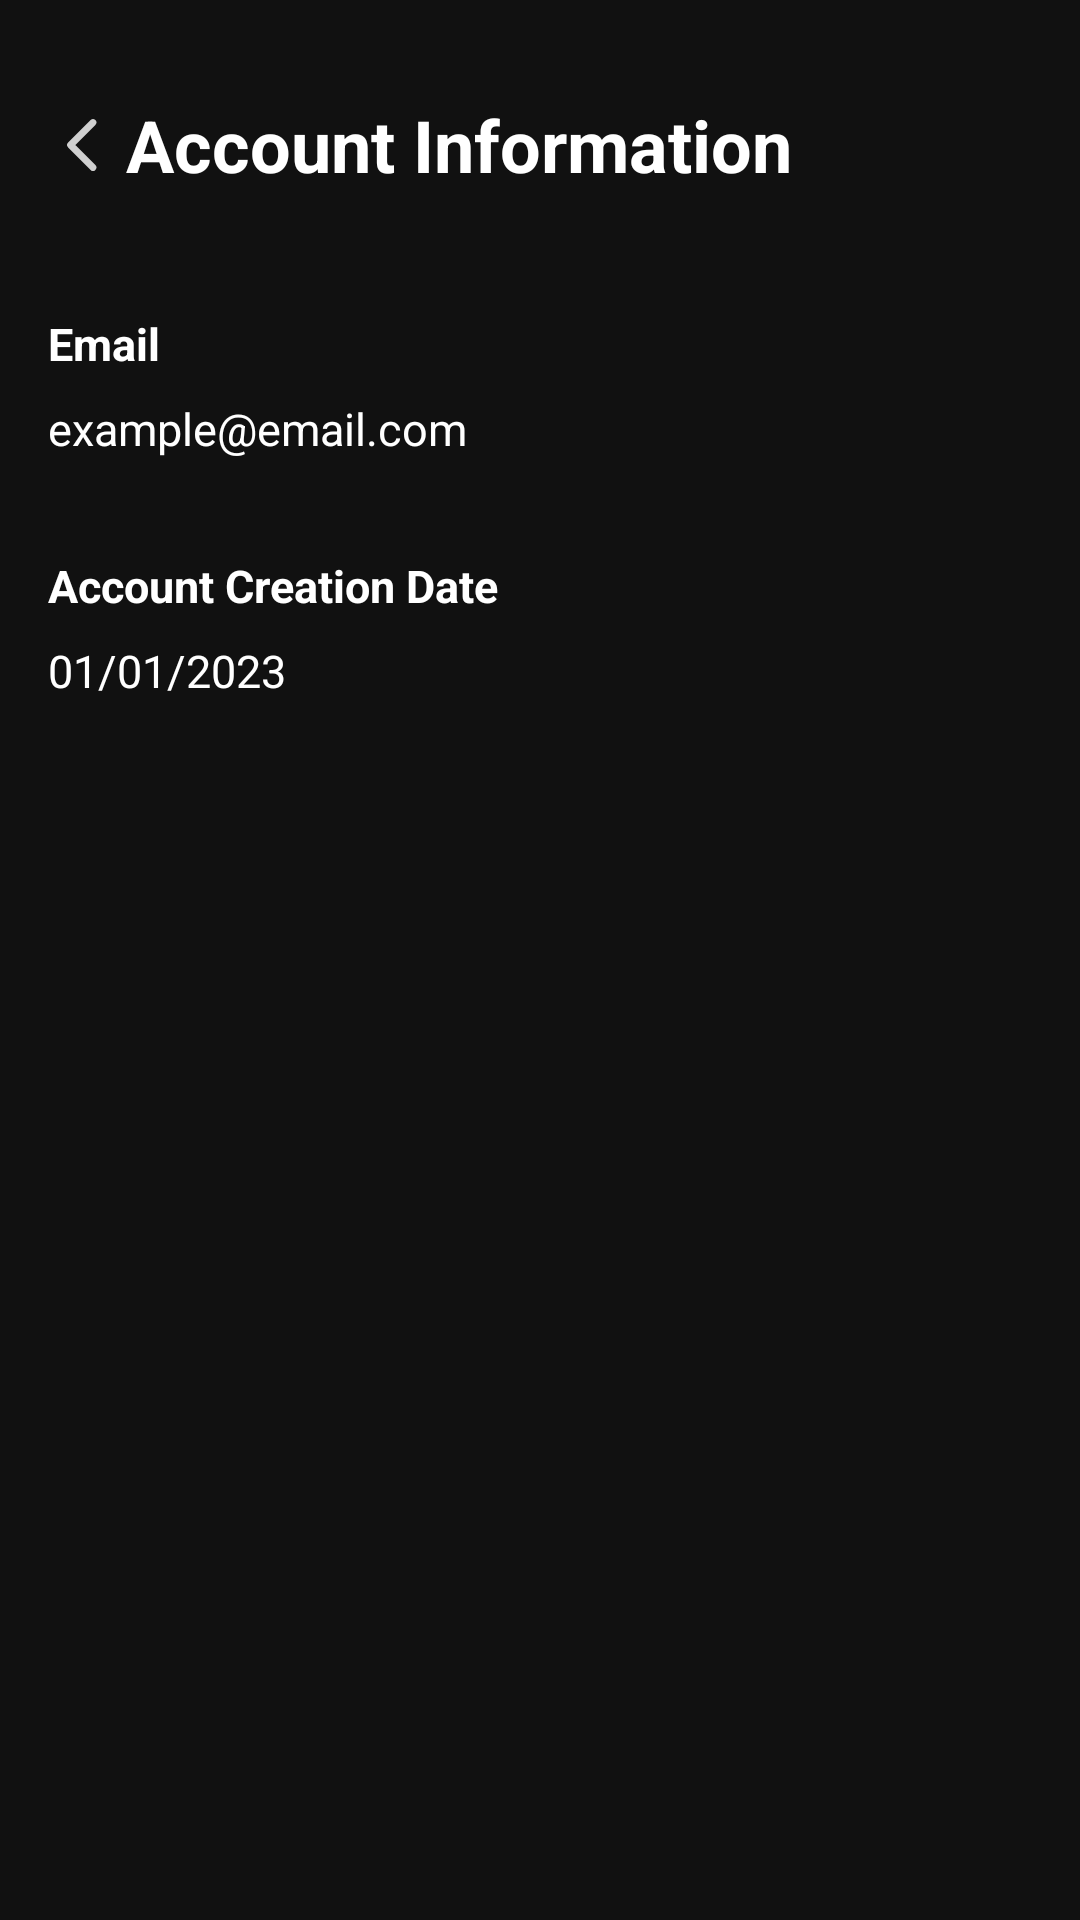

Named icons in this screenshot (1080 x 1920) and their bounding boxes, (x1, y1, x2, y2):
caret left: (67, 119, 97, 171)
